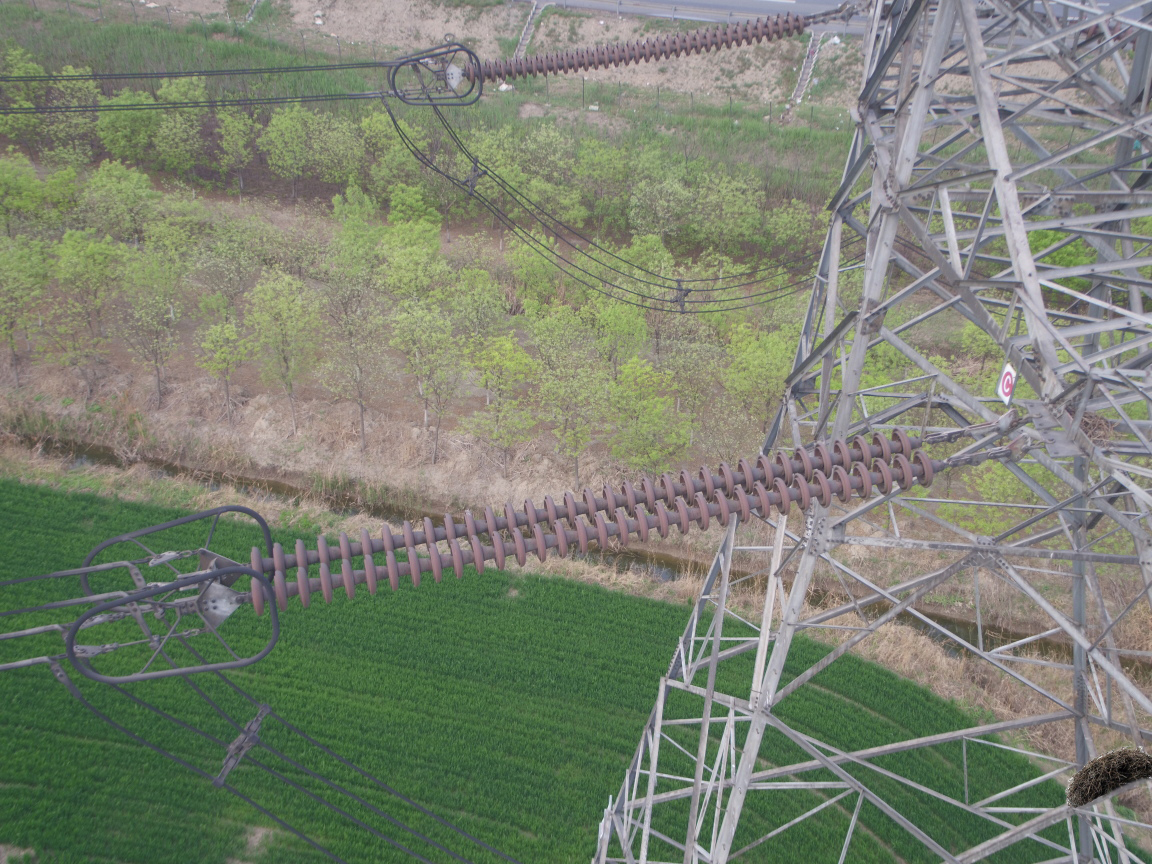nest: (1061, 738, 1148, 817), (1038, 386, 1131, 458)
